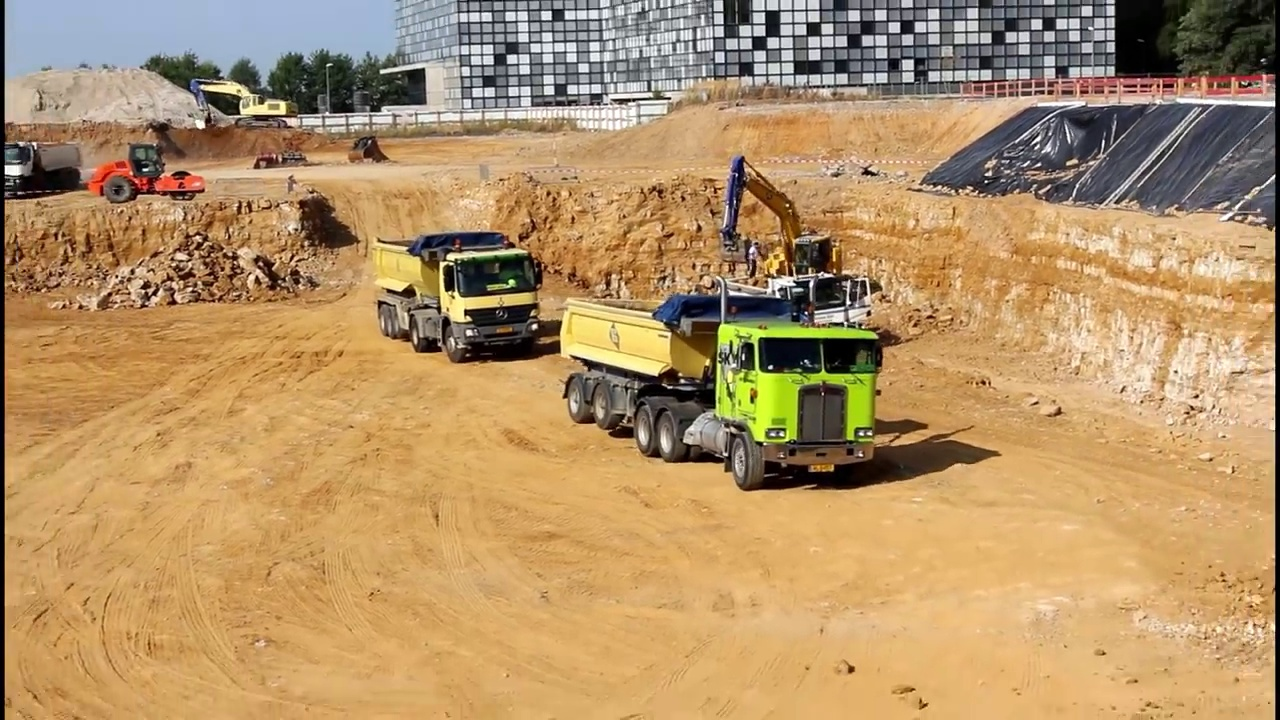compactor: (88, 140, 207, 207)
excavator: (707, 151, 847, 328), (184, 74, 299, 136)
truck: (555, 272, 888, 492), (368, 227, 547, 362), (720, 265, 878, 354), (3, 137, 84, 200)
worker: (743, 238, 762, 279)
